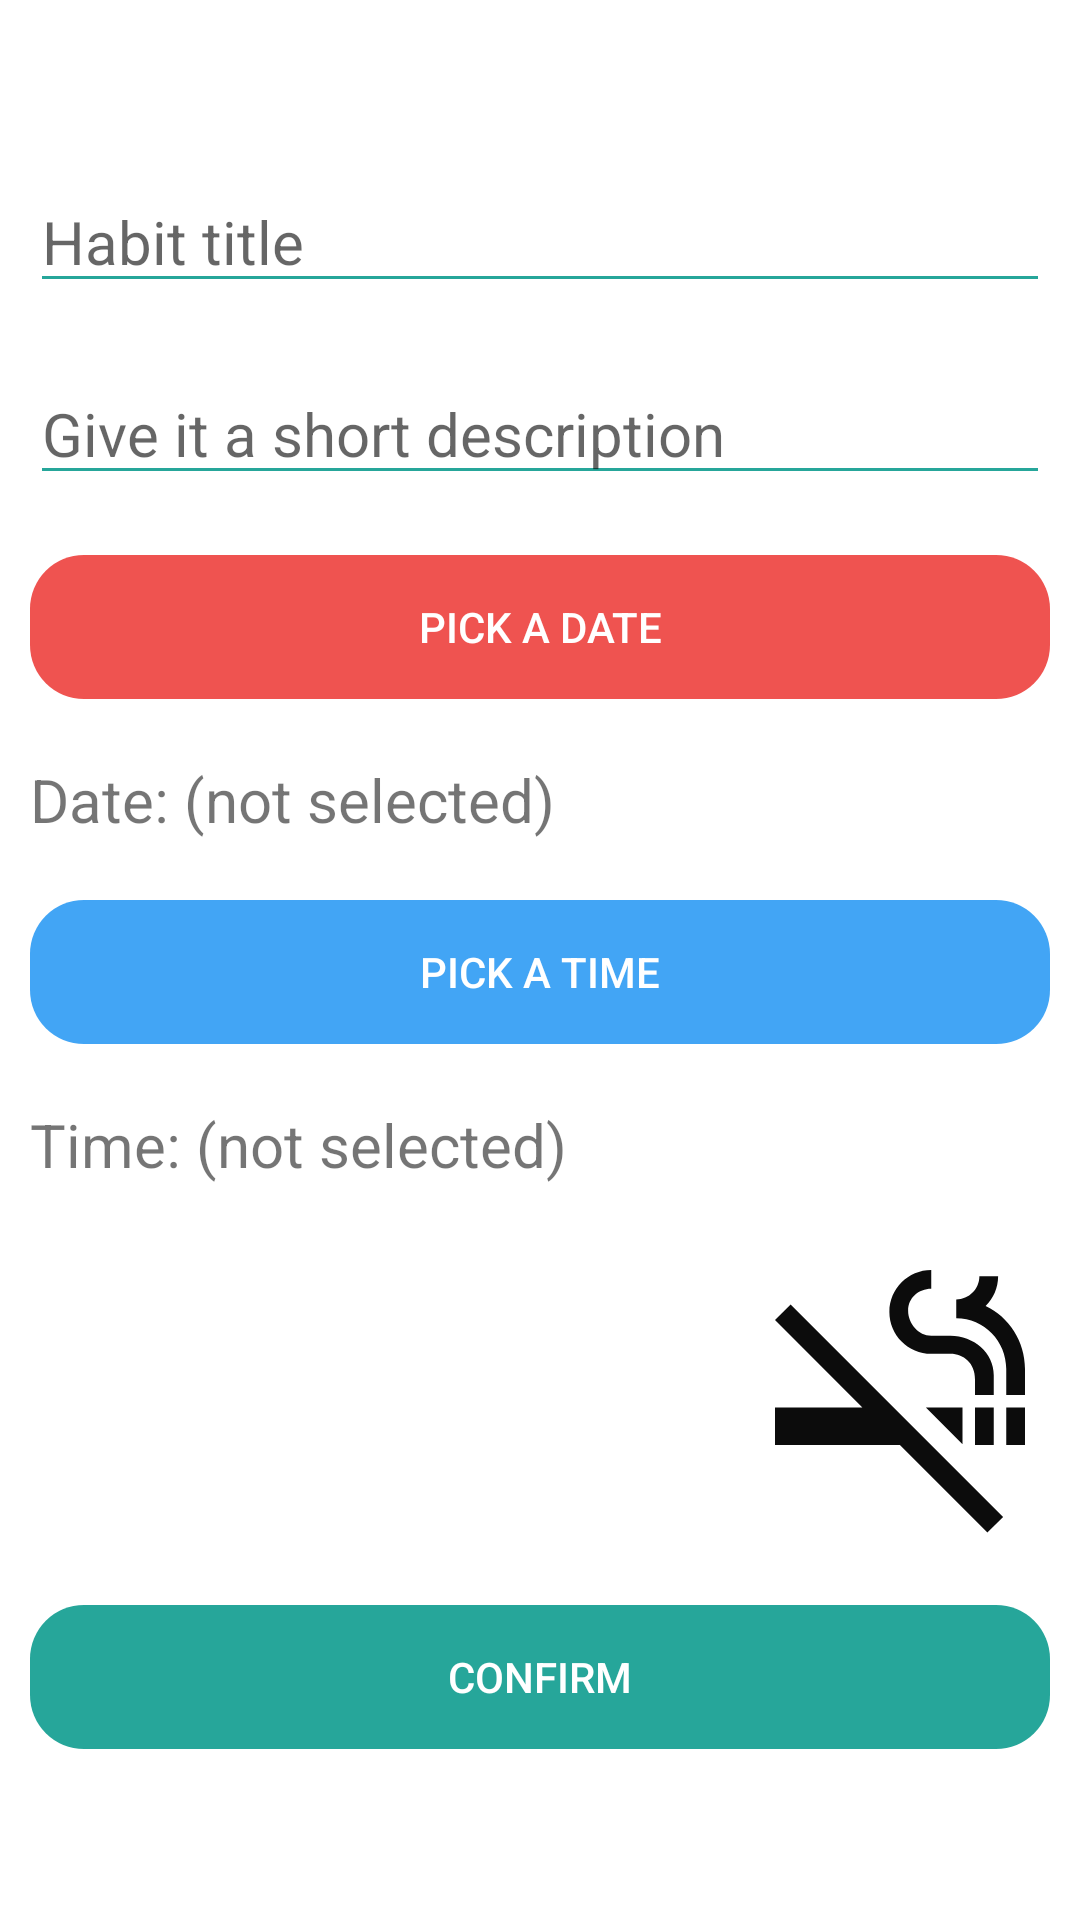

Icon click points for this 1080 x 1920 phone screenshot, format (x,y):
smoke: (900,1401)
